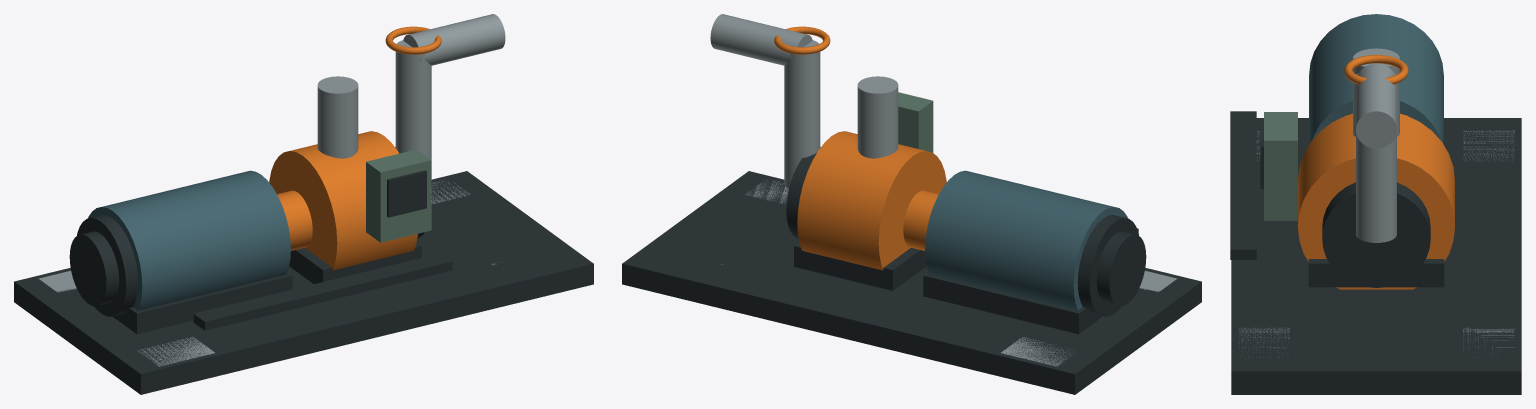
File: demo-pump.glb
The picture shows the model from 3 angles, left to right: view 1: azimuth 30°, elevation 25°; view 2: azimuth 150°, elevation 25°; view 3: azimuth 270°, elevation 25°; orthographic projection. The views are drawn at different scales.
Visible parts, largest first — view 1: BASE_SKID, MOTOR_BODY, PUMP_HOUSING, CABLE_TRAY, CONTROL_BOX, DISCHARGE_PIPE, MOTOR_MOUNT, SUCTION_PIPE, OUTLET_PIPE, MOTOR_FAN_COVER, MOTOR_REAR_CAP, PUMP_MOUNT (+5 smaller); view 2: BASE_SKID, MOTOR_BODY, PUMP_HOUSING, DISCHARGE_PIPE, MOTOR_MOUNT, SUCTION_PIPE, OUTLET_PIPE, MOTOR_FAN_COVER, PUMP_MOUNT, MOTOR_REAR_CAP, CONTROL_BOX, COUPLING_GUARD (+4 smaller); view 3: BASE_SKID, PUMP_HOUSING, MOTOR_BODY, PUMP_FRONT, CABLE_TRAY, DISCHARGE_PIPE, CONTROL_BOX, OUTLET_PIPE, PUMP_MOUNT, VALVE_WHEEL, SUCTION_PIPE, FOOT_A (+2 smaller).
Part boxes in pixels (x1,y1,x2,y2): BASE_SKID: (14, 171, 593, 394); MOTOR_BODY: (88, 170, 290, 320); PUMP_HOUSING: (269, 131, 417, 270); CABLE_TRAY: (193, 253, 452, 330); CONTROL_BOX: (366, 149, 431, 242); DISCHARGE_PIPE: (395, 40, 431, 159); MOTOR_MOUNT: (112, 272, 292, 334); SUCTION_PIPE: (317, 76, 358, 158); OUTLET_PIPE: (403, 14, 505, 65); MOTOR_FAN_COVER: (69, 231, 119, 306); MOTOR_REAR_CAP: (77, 215, 138, 316); PUMP_MOUNT: (289, 242, 421, 283); BASE_SKID: (622, 171, 1201, 394); MOTOR_BODY: (925, 170, 1127, 320); PUMP_HOUSING: (797, 131, 946, 270); DISCHARGE_PIPE: (784, 40, 820, 187); MOTOR_MOUNT: (923, 272, 1103, 334); SUCTION_PIPE: (857, 76, 898, 158); OUTLET_PIPE: (710, 14, 812, 65); MOTOR_FAN_COVER: (1096, 231, 1146, 306); PUMP_MOUNT: (794, 242, 926, 290); MOTOR_REAR_CAP: (1077, 215, 1138, 316); CONTROL_BOX: (898, 92, 933, 152); COUPLING_GUARD: (903, 190, 938, 250); BASE_SKID: (1231, 118, 1521, 394); PUMP_HOUSING: (1298, 113, 1454, 289); MOTOR_BODY: (1309, 14, 1443, 144); PUMP_FRONT: (1322, 182, 1430, 287); CABLE_TRAY: (1230, 111, 1256, 259); DISCHARGE_PIPE: (1356, 73, 1396, 242); CONTROL_BOX: (1264, 112, 1297, 220); OUTLET_PIPE: (1356, 64, 1396, 148); PUMP_MOUNT: (1308, 259, 1444, 287); VALVE_WHEEL: (1344, 55, 1408, 84); SUCTION_PIPE: (1353, 48, 1399, 136); FOOT_A: (1463, 130, 1514, 161).
Bounding box in the file's own units: 6.4 × 3.12 × 3.11.
